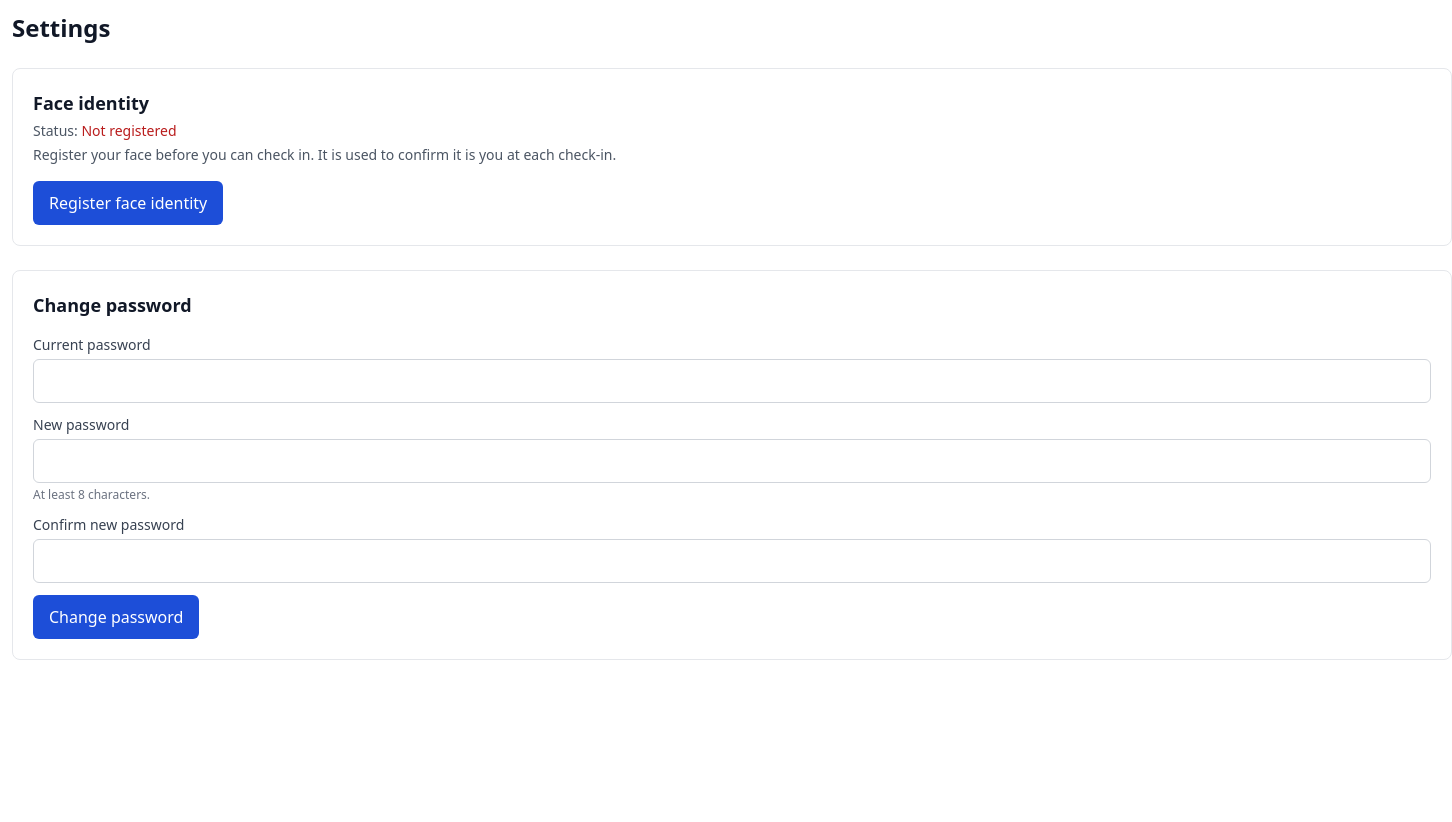
Test: Settings face identity › a wrong password shows an error and never opens the camera or saves consent
This screenshot has width=1452, height=822.
Click the button "Register face identity".
click(128, 203)  # box [33,181,223,225]
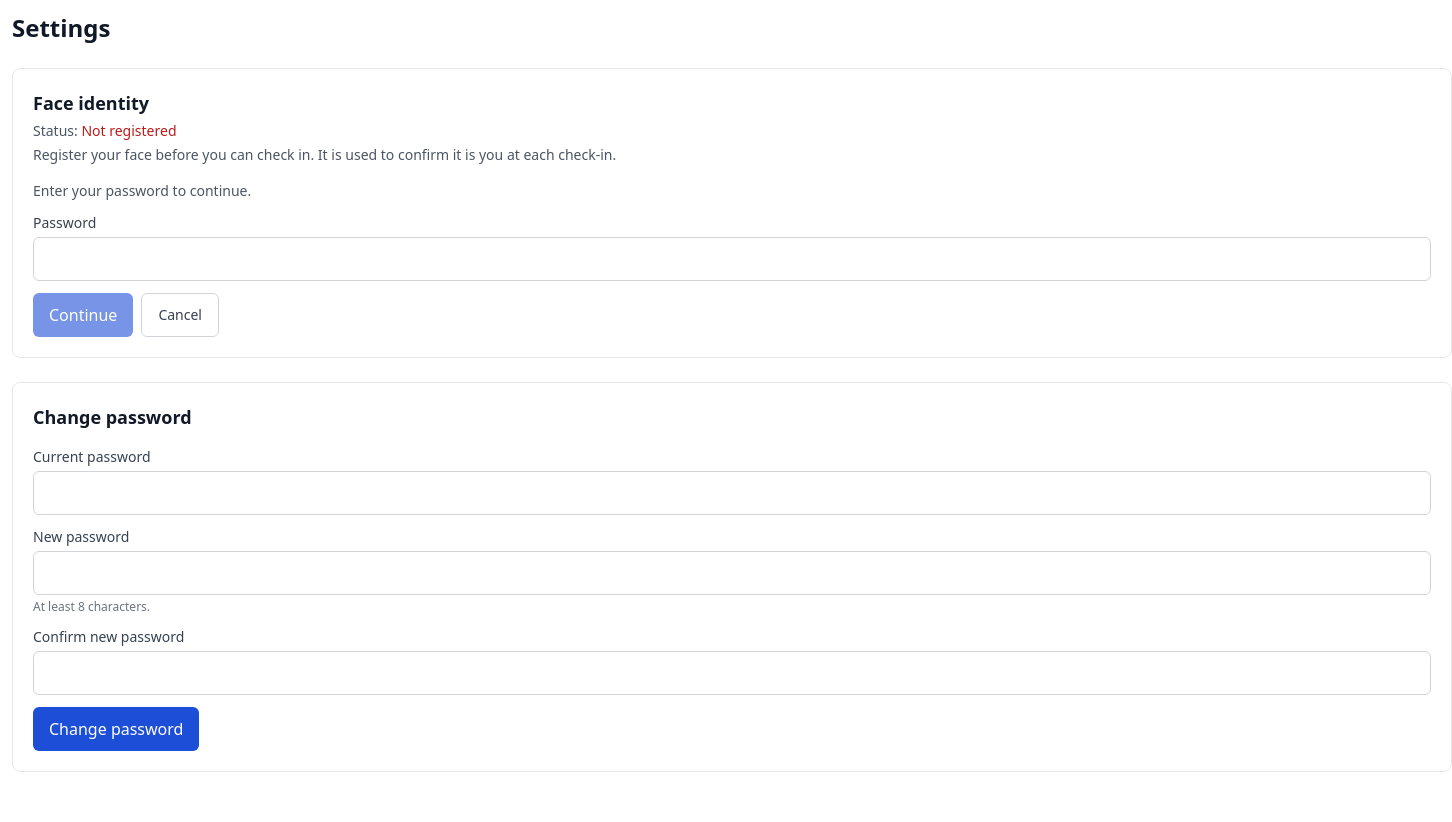
Type "wrong" into the password field labelled "Password".
click(732, 259); type("wrong")  # box [33,237,1431,281]
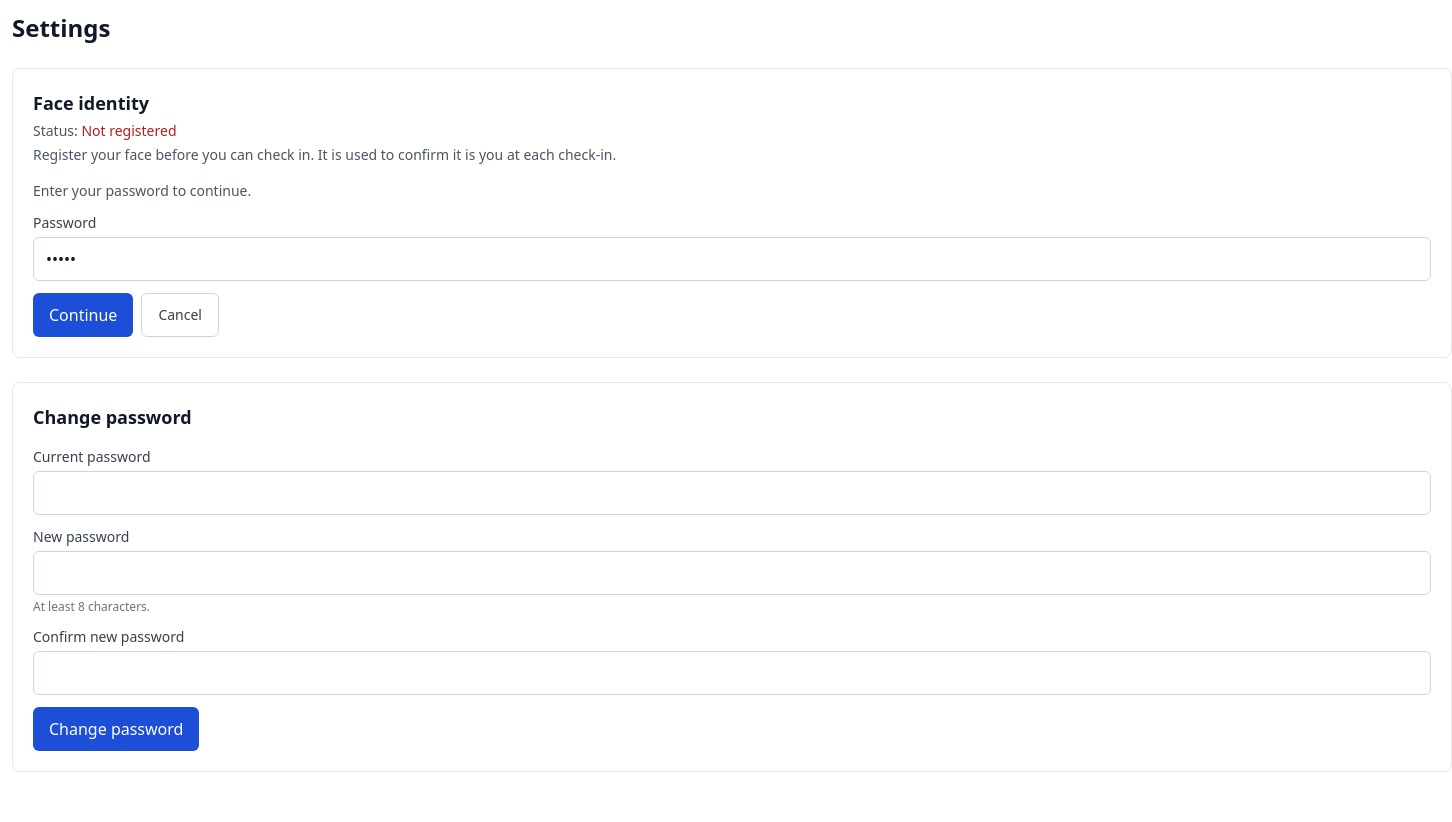
Click the button "Continue".
click(83, 315)  # box [33,293,133,337]
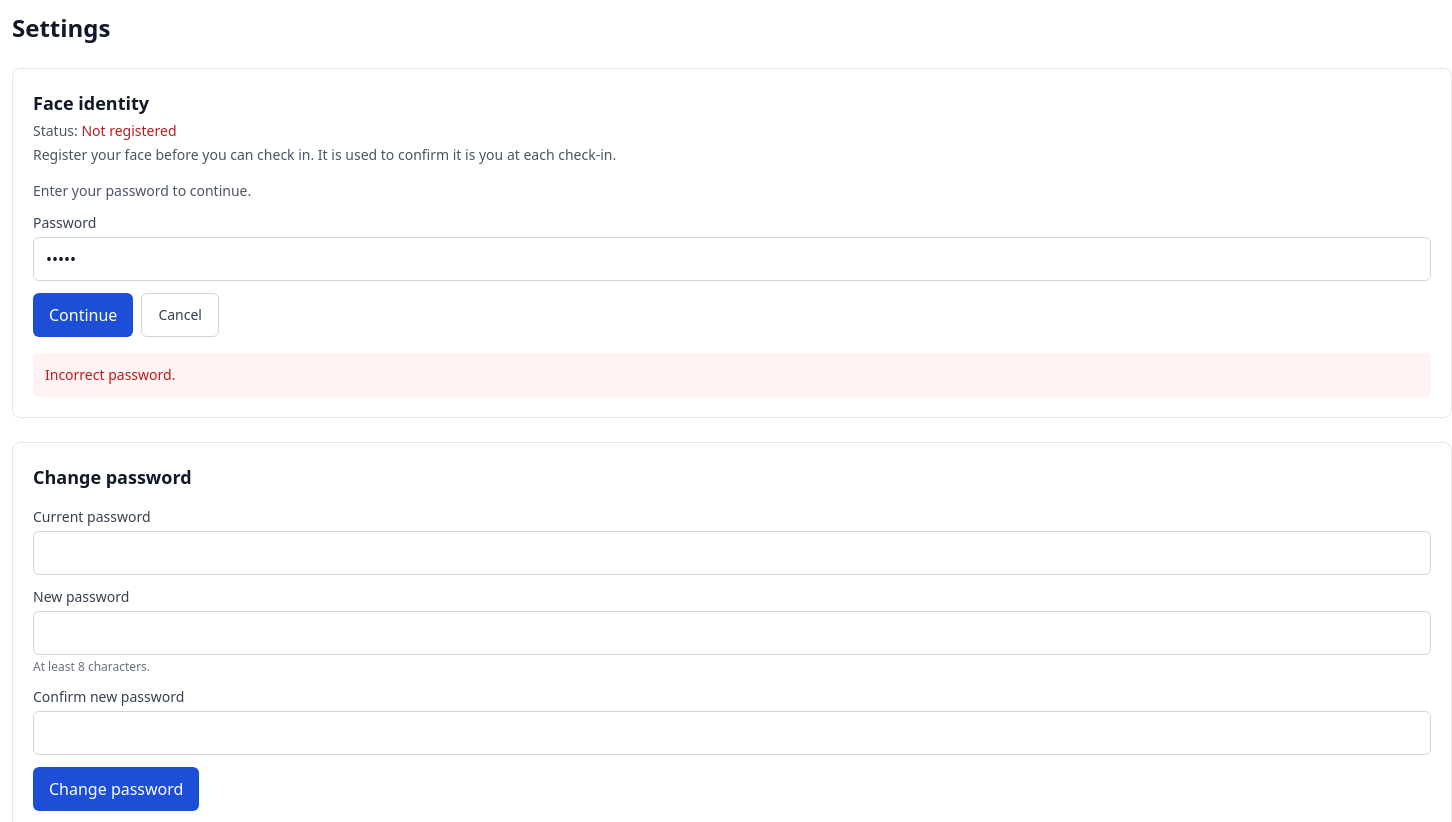
Check: the message reads "Incorrect password.", box [45,365,175,384]
